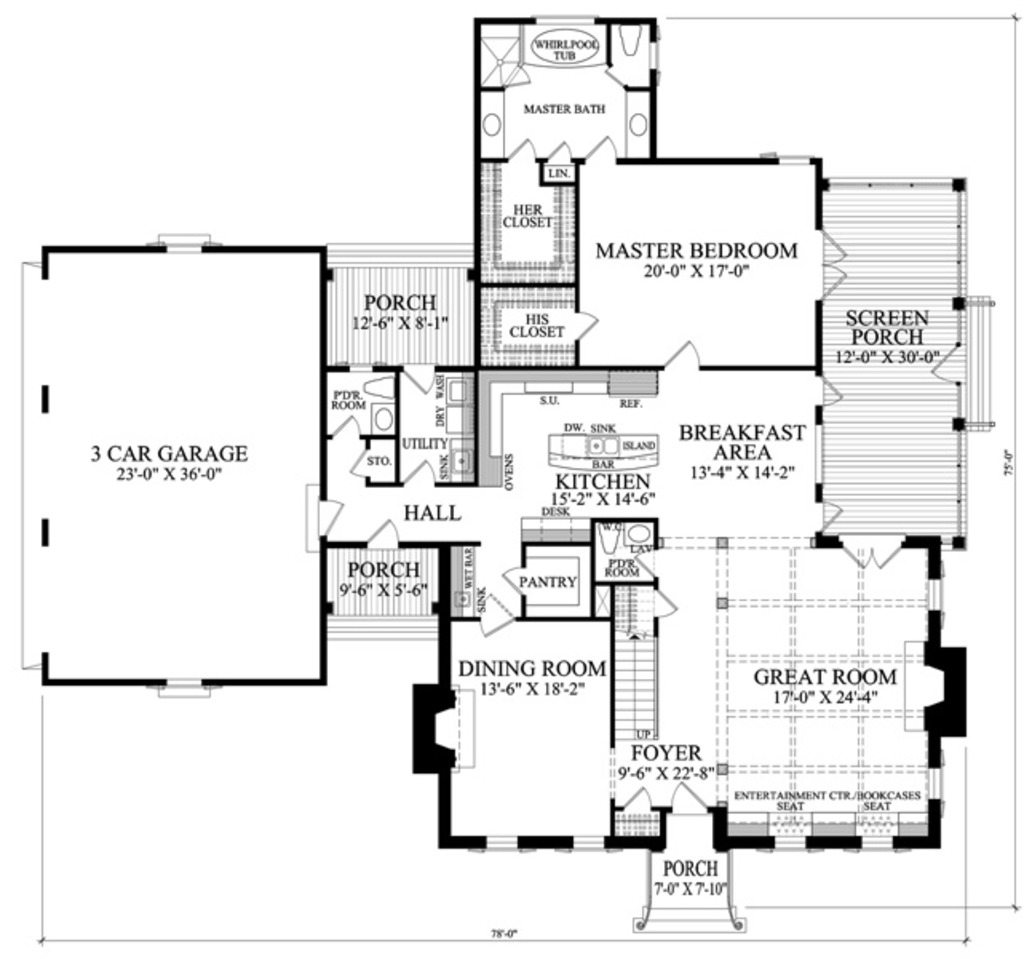door: (838, 536, 898, 575), (815, 231, 846, 292), (668, 778, 711, 821), (316, 498, 353, 544), (659, 339, 699, 376), (365, 515, 402, 551), (326, 414, 367, 443), (581, 133, 617, 166), (400, 363, 433, 397), (812, 502, 844, 535), (813, 374, 844, 407), (571, 308, 600, 342), (619, 784, 653, 813), (497, 566, 528, 597), (653, 587, 680, 621), (401, 462, 439, 486), (548, 136, 578, 166), (476, 616, 513, 638), (506, 136, 537, 162)
kitchen_bar: (545, 427, 662, 476)
large_sink: (365, 372, 401, 402)
small_sink: (471, 89, 508, 164), (627, 87, 653, 161)
stairs: (625, 852, 750, 939), (608, 625, 661, 738), (612, 622, 658, 744)
tub: (518, 20, 608, 72)
window: (156, 229, 216, 259), (151, 673, 213, 702), (921, 573, 948, 618), (849, 833, 900, 852), (473, 835, 520, 855), (923, 765, 944, 807), (566, 836, 617, 853), (766, 837, 816, 852)
